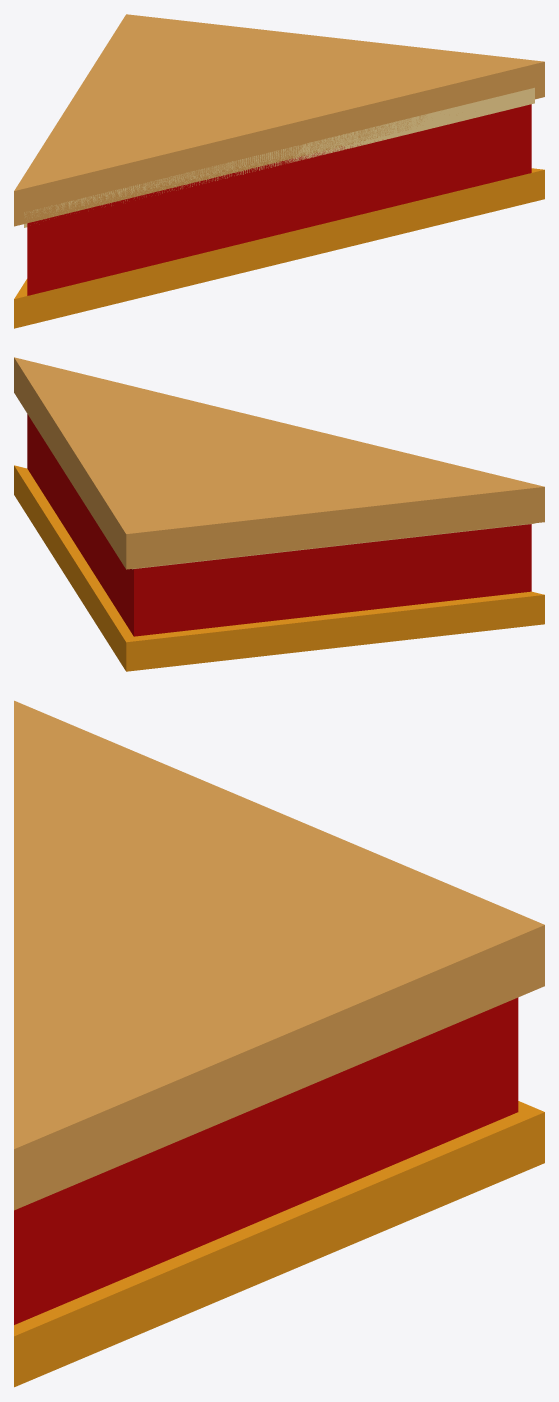
The model's file is CMU3DBakedPieCherrySlice.glb.
3 renders of one model, top to bottom at view 1: azimuth 30°, elevation 25°; view 2: azimuth 150°, elevation 25°; view 3: azimuth 270°, elevation 25°, orthographic. The views are drawn at different scales.
Visible parts, largest first — view 1: baked upper pastry, red cherry filling, golden bottom crust, thin pale cut crumb; view 2: baked upper pastry, red cherry filling, golden bottom crust, thin pale cut crumb; view 3: baked upper pastry, red cherry filling, golden bottom crust.
Boxes of the visible parts, bbox=[...] form: baked upper pastry: bbox=[14, 14, 544, 226]; red cherry filling: bbox=[27, 104, 531, 295]; golden bottom crust: bbox=[14, 168, 544, 328]; thin pale cut crumb: bbox=[24, 87, 534, 227]; baked upper pastry: bbox=[14, 357, 544, 569]; red cherry filling: bbox=[27, 414, 531, 636]; golden bottom crust: bbox=[14, 465, 544, 671]; thin pale cut crumb: bbox=[132, 523, 534, 569]; baked upper pastry: bbox=[14, 700, 544, 1210]; red cherry filling: bbox=[14, 997, 518, 1324]; golden bottom crust: bbox=[14, 1101, 544, 1387].
Size of the model in its own units: 0.5657 by 0.14 by 0.2828.
